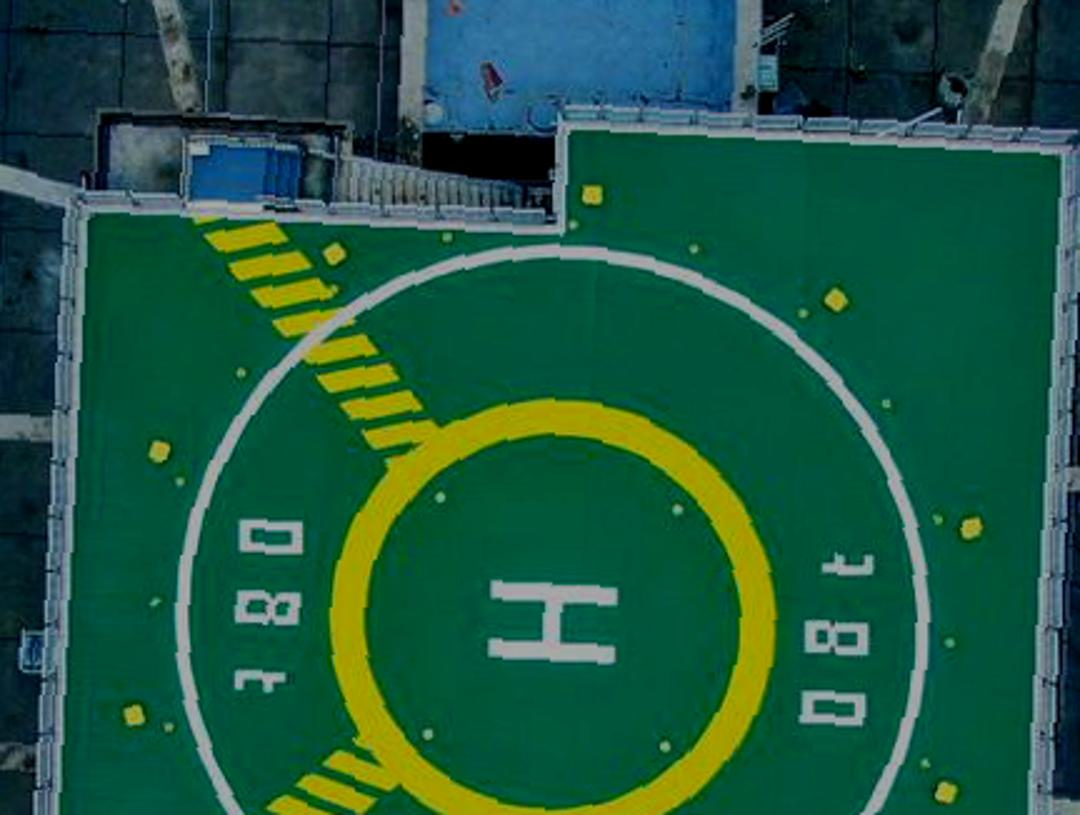Apron: (310, 398, 772, 814)
